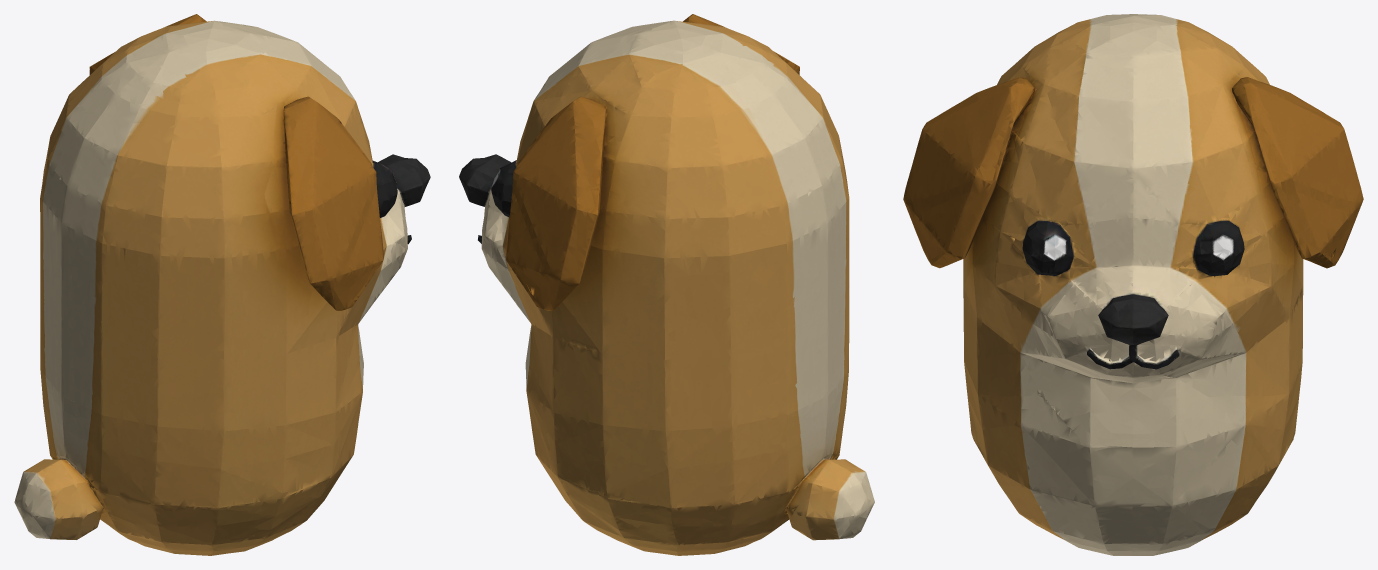
The model's file is dog.fbx.
3 renders of one model, left to right at view 1: azimuth 30°, elevation 25°; view 2: azimuth 150°, elevation 25°; view 3: azimuth 270°, elevation 25°, orthographic. The views are drawn at different scales.
Parts seen in each view (by area): view 1: tripo_node_426fcc5f; view 2: tripo_node_426fcc5f; view 3: tripo_node_426fcc5f.
Boxes of the visible parts, x1,y1,x2,y2 form: tripo_node_426fcc5f: (14, 14, 430, 555); tripo_node_426fcc5f: (459, 14, 874, 555); tripo_node_426fcc5f: (903, 14, 1363, 555).
Bounding box in the file's own units: 84.68 × 97.91 × 81.35.
